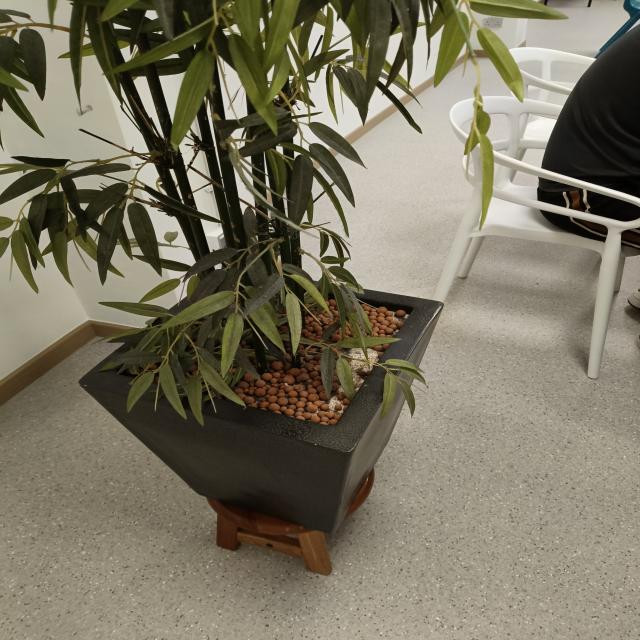Pot: (74, 261, 446, 533)
